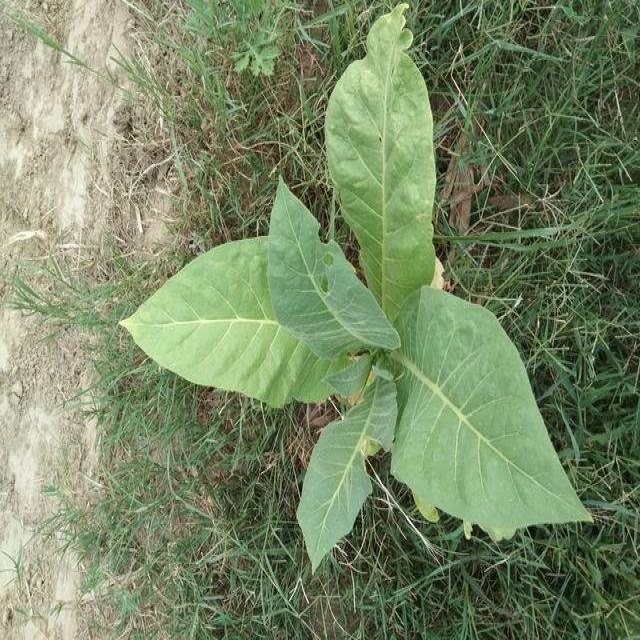crop: (125, 1, 594, 560)
